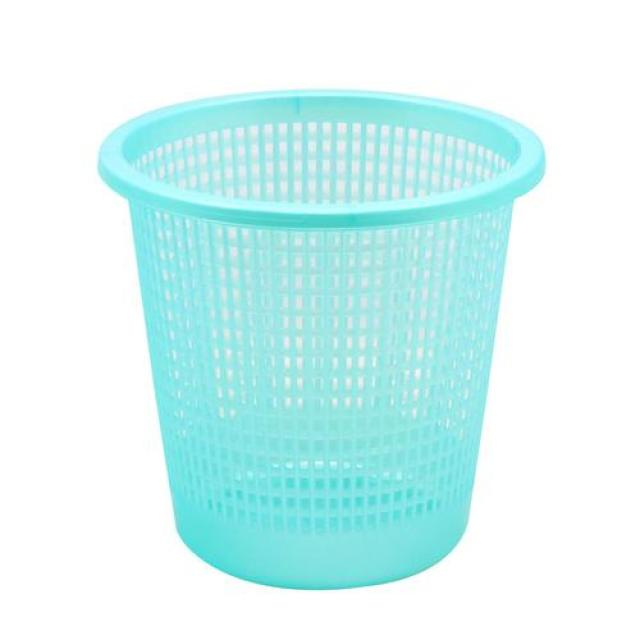dustbin: (95, 84, 552, 596)
